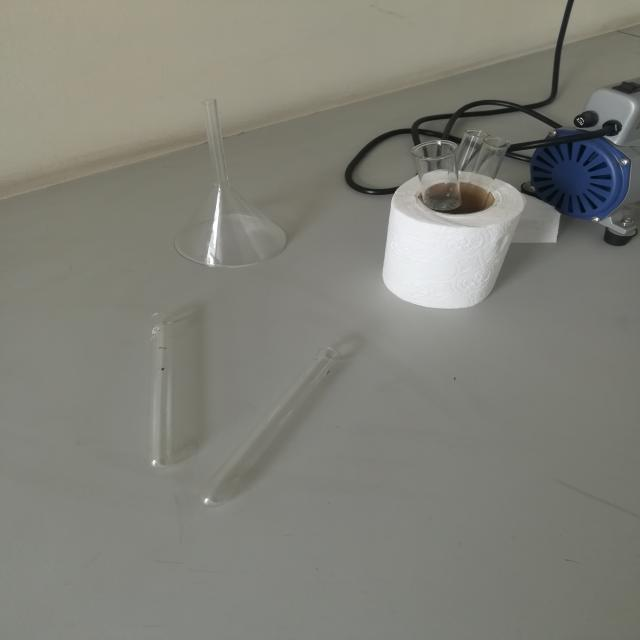Funnel: (153, 60, 315, 274)
Test_Tube: (191, 323, 405, 524), (112, 305, 198, 479)
